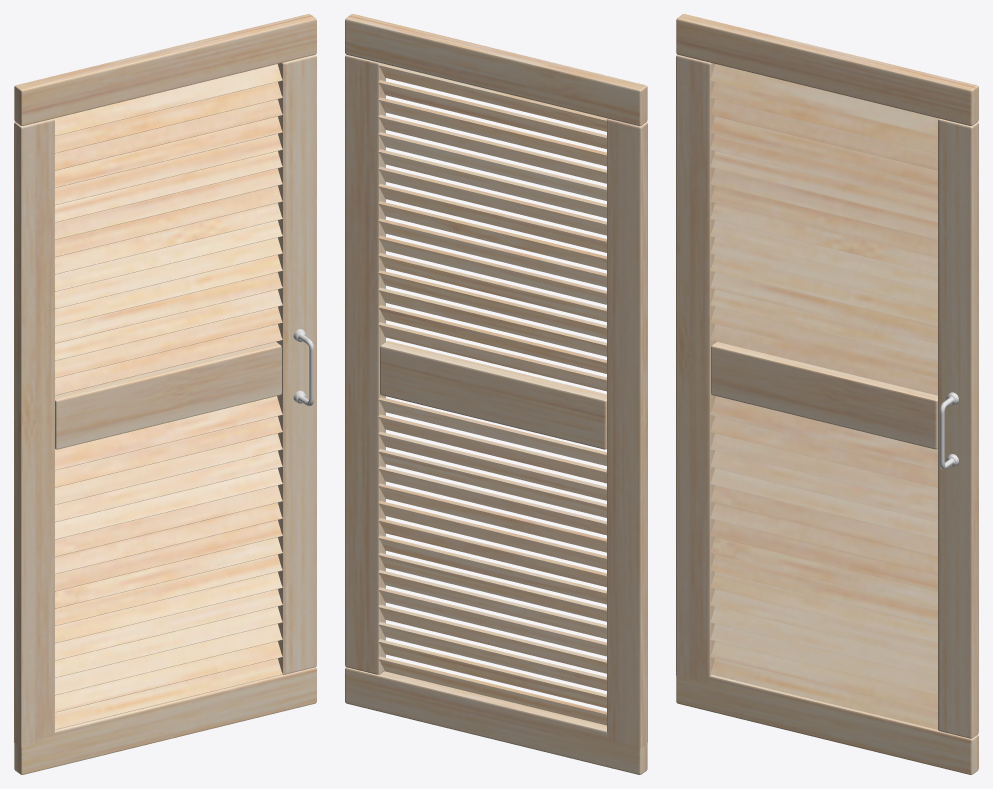
File: Closet_Door(Left).fbx
3 views of the same model, side by side, from view 1: azimuth 30°, elevation 25°; view 2: azimuth 150°, elevation 25°; view 3: azimuth 330°, elevation 25° (orthographic).
Parts seen in each view (by area): view 1: Closet_Door; view 2: Closet_Door; view 3: Closet_Door.
Boxes of the visible parts, x1,y1,x2,y2 form: Closet_Door: [14, 14, 316, 774]; Closet_Door: [345, 14, 647, 774]; Closet_Door: [676, 14, 978, 774].
Size of the model in its own units: 4.47 by 9.87 by 0.5511.
2 materials, 1 textured.
